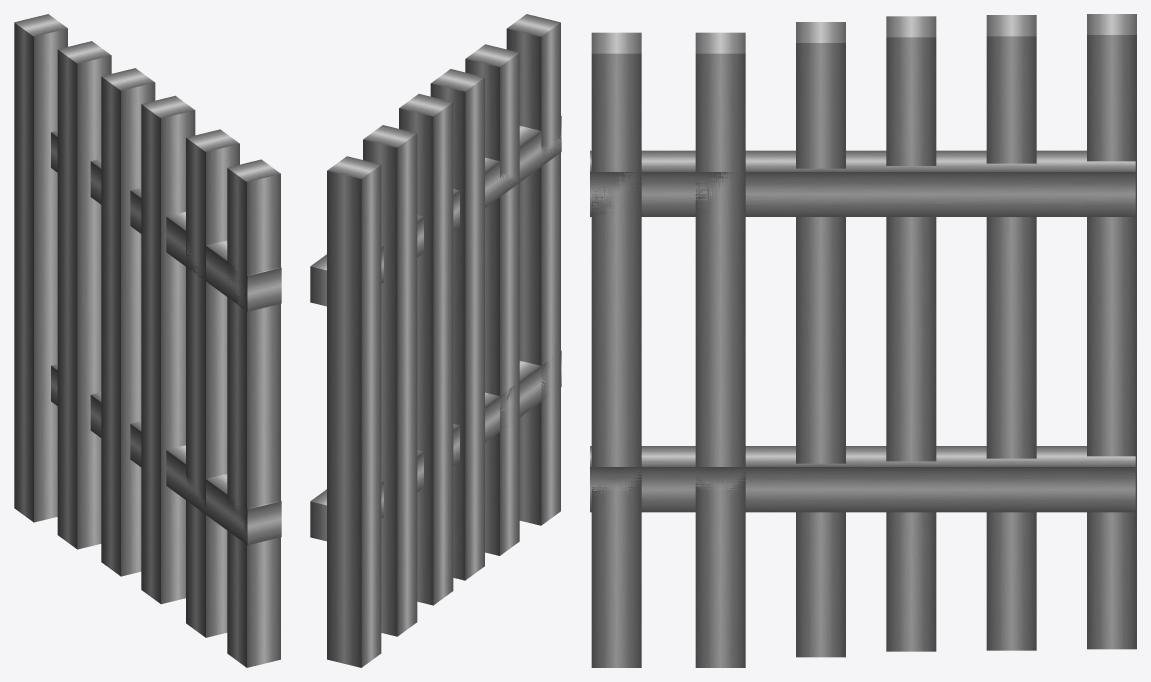
Rendered from metalcelldoor.fbx.
3 views of the same model, side by side, from view 1: azimuth 30°, elevation 25°; view 2: azimuth 150°, elevation 25°; view 3: azimuth 270°, elevation 25° (orthographic). The views are drawn at different scales.
Parts seen in each view (by area): view 1: Cube; view 2: Cube; view 3: Cube.
Part boxes in pixels (box(x1,y1,x2,y2)): Cube: box(14, 14, 281, 667); Cube: box(310, 14, 561, 667); Cube: box(590, 14, 1136, 667).
Size of the model in its own units: 88.36 by 811 by 643.
